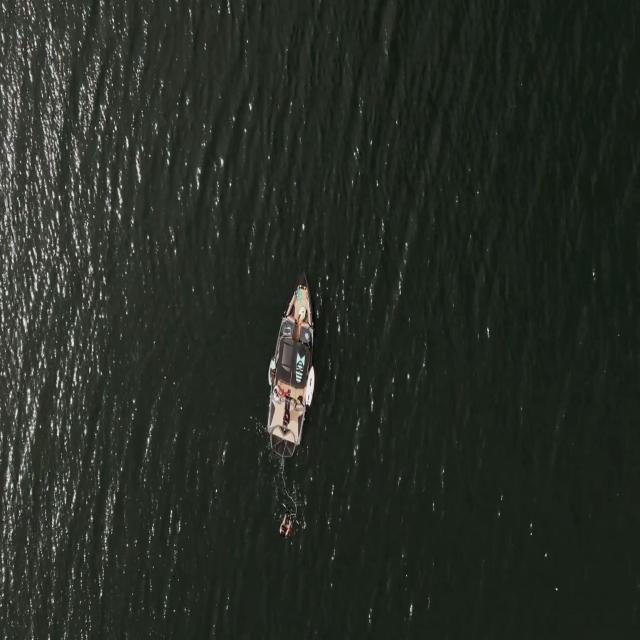ship: (263, 276, 324, 457), (306, 366, 315, 408)
